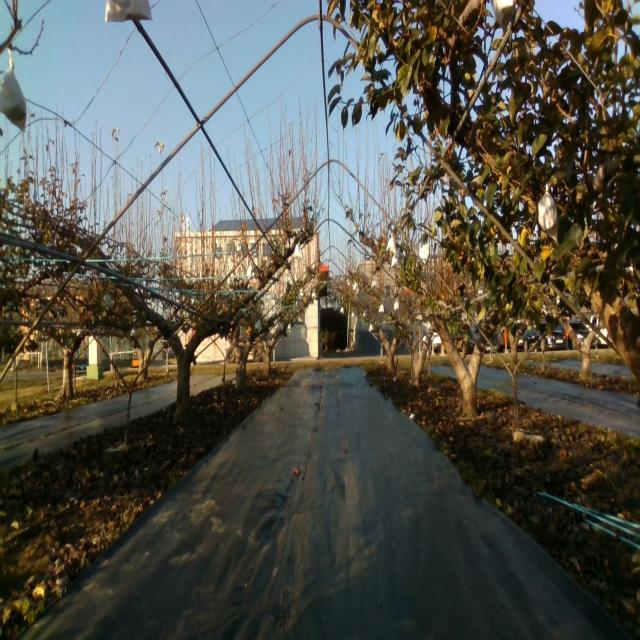pearbags: (0, 55, 28, 133), (537, 194, 557, 243), (419, 243, 430, 267)
